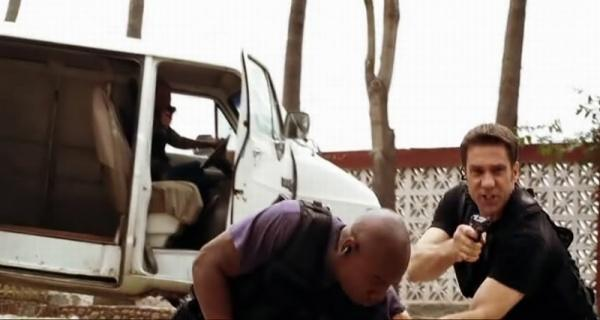Gun: (469, 213, 492, 243)
